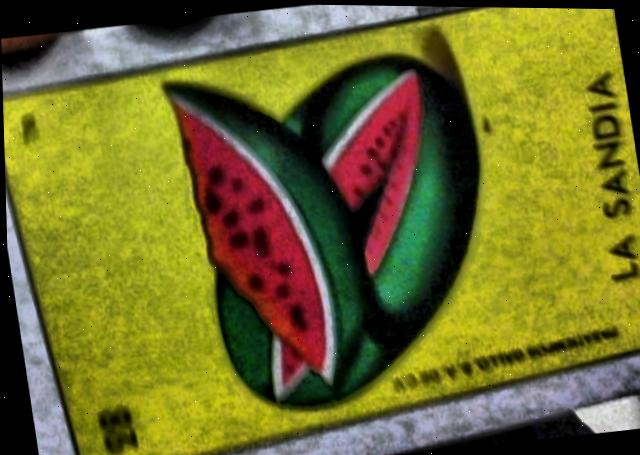La Sandia: (2, 6, 640, 455)
